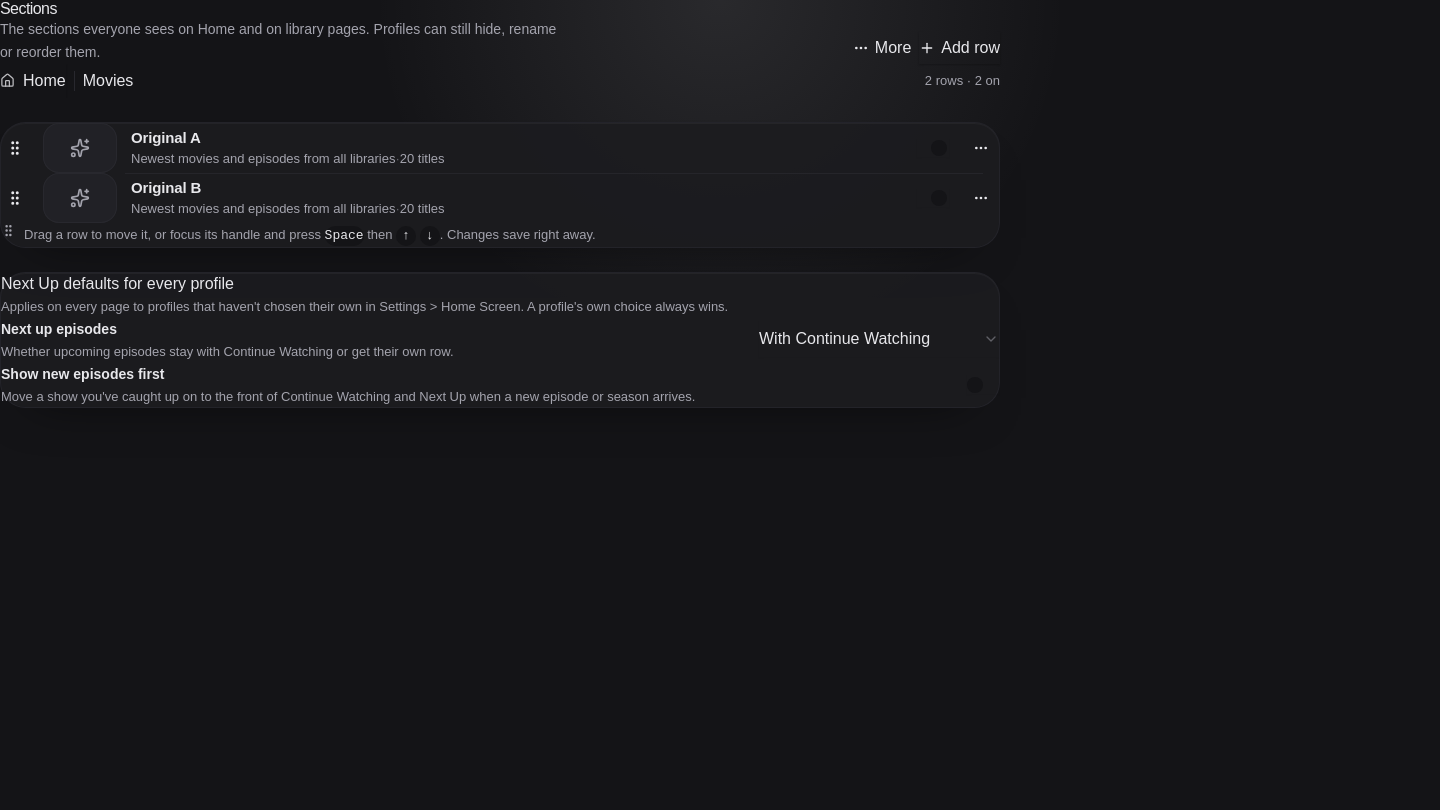
Test case: admin section captured snapshots › leaves the library pages alone when this page changed since the dialog opened
expect the button named "More for Original A" is shown: met, box top-left (963, 130), bottom-right (999, 166)
expect the button "Add row" is enabled: met, box top-left (919, 32), bottom-right (1000, 64)
Click the button "More".
click(882, 48)  # box top-left (853, 32), bottom-right (911, 64)
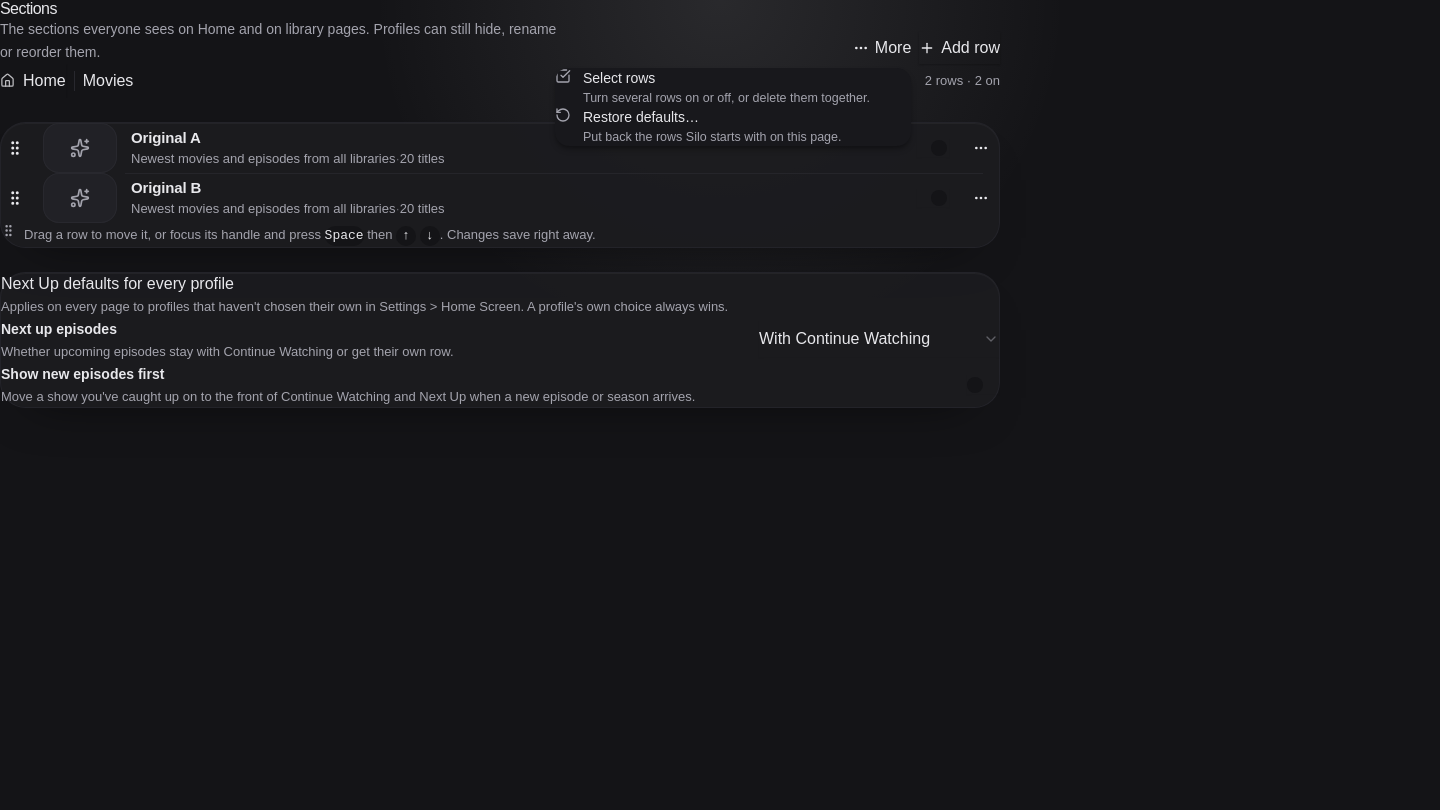
Click the menu item "Restore defaults…".
click(698, 126)  # box top-left (555, 107), bottom-right (842, 144)
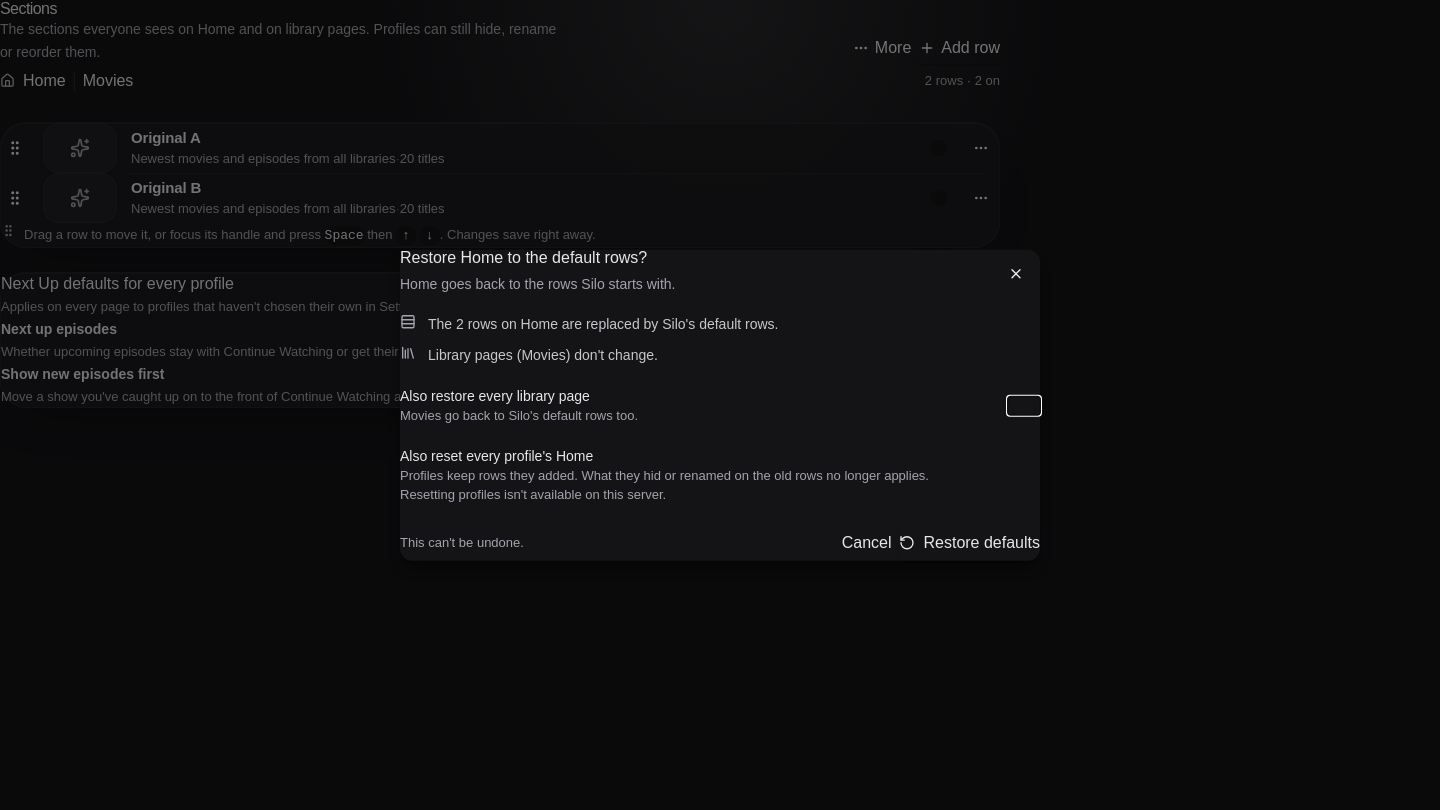
Click the switch named "Also restore every library page" in the row of "Also restore every library page".
click(1024, 406)  # box top-left (1008, 396), bottom-right (1040, 415)
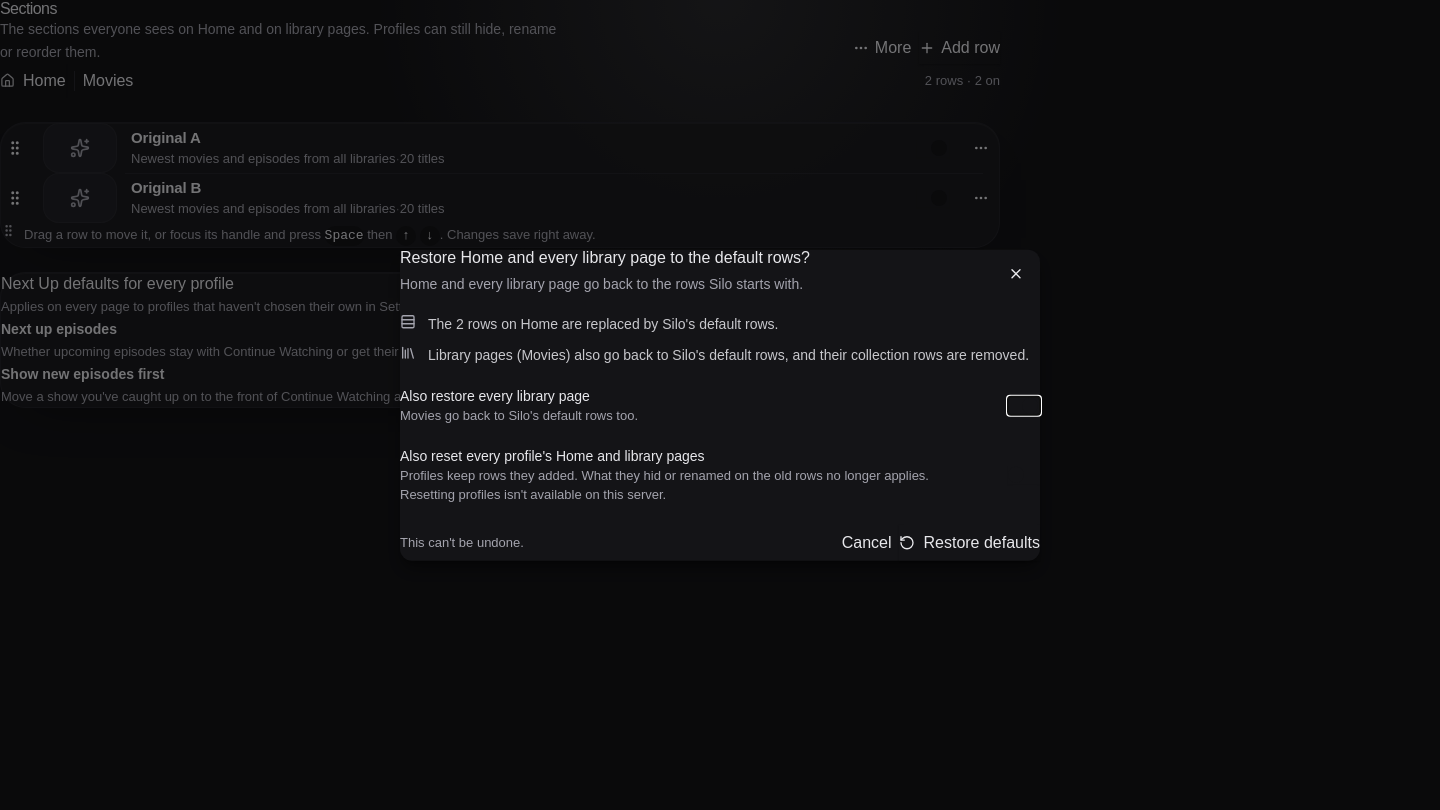
Click the button "Restore defaults".
click(970, 542)  # box top-left (900, 524), bottom-right (1040, 560)
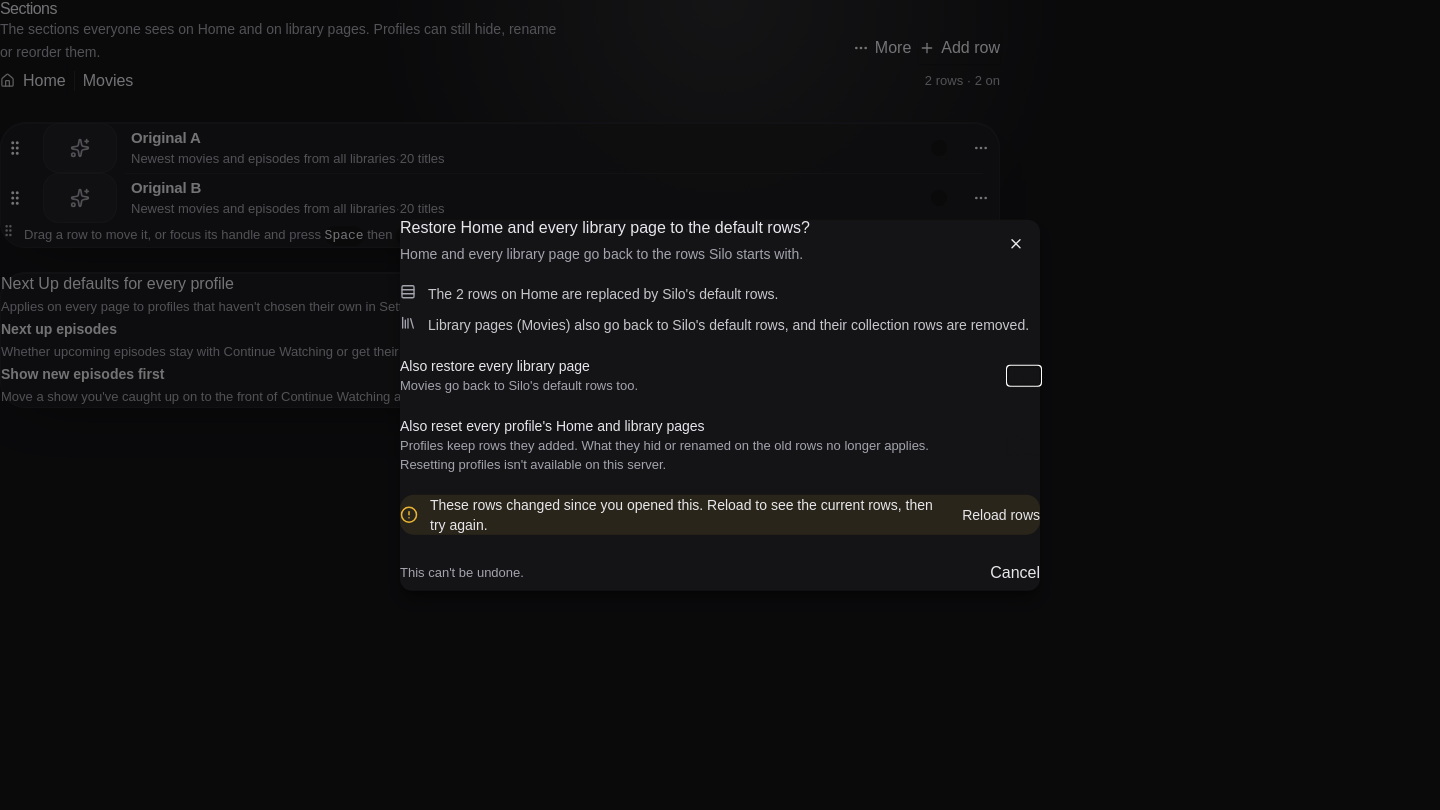
expect the text "These rows changed since you opened this" is shown: met, box top-left (430, 496), bottom-right (933, 532)
